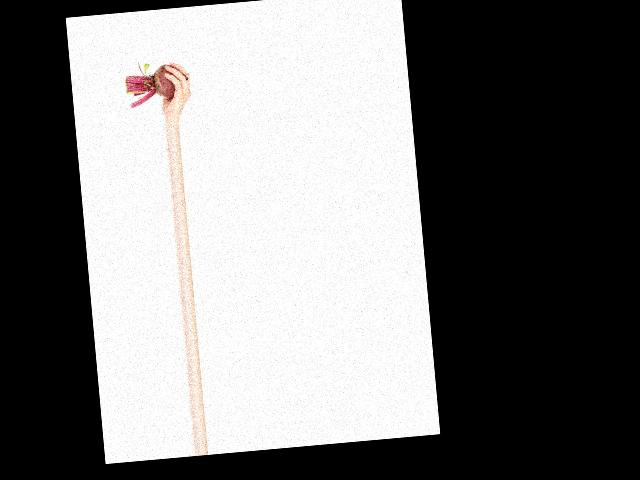beet: (123, 57, 191, 108)
